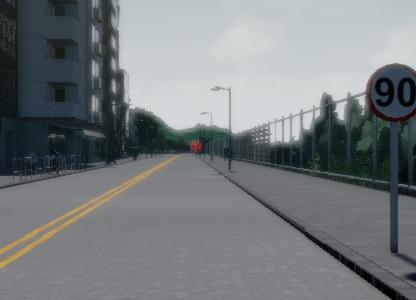Speed_90: (363, 61, 416, 123)
